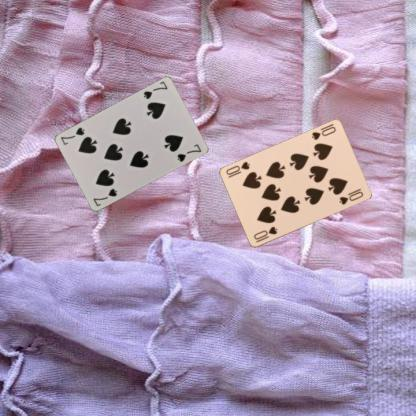10s: (251, 224, 278, 244), (309, 124, 337, 142)
7s: (140, 79, 169, 101), (91, 186, 118, 208)
